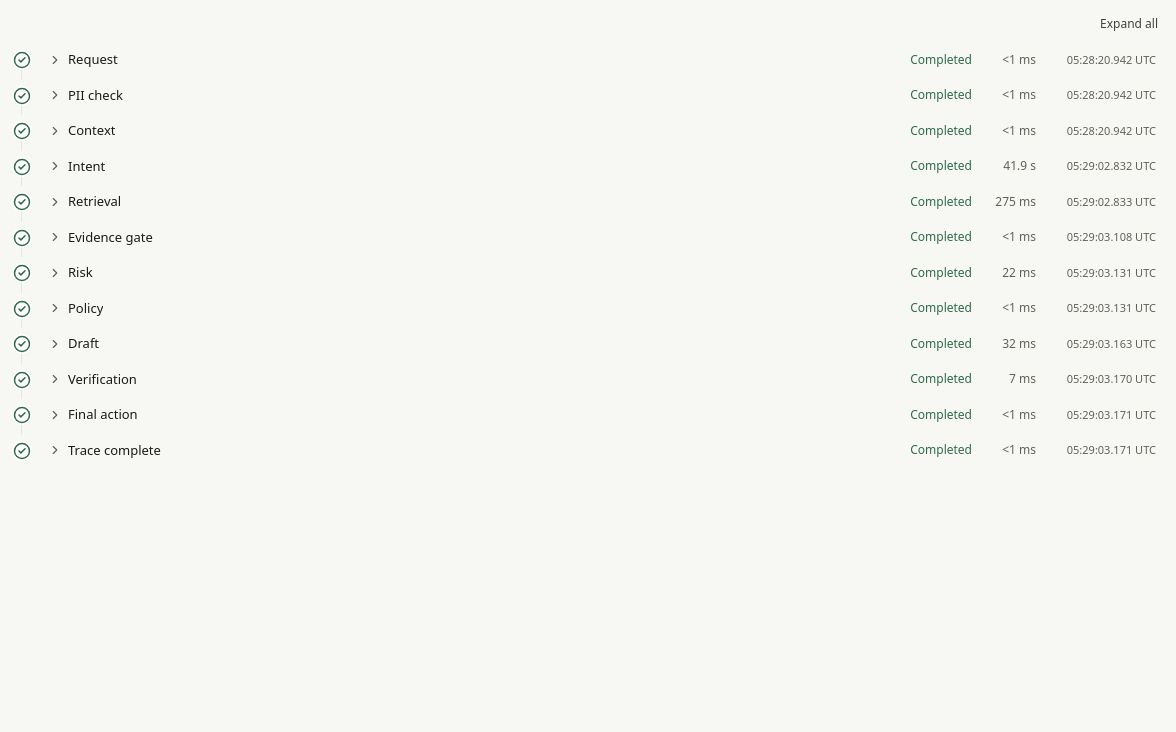
Test: trace timeline › shows status, duration and time per stage and reveals safe metadata on click
The width and height of the screenshot is (1176, 732).
Click the button "Policy Completed <1 ms 05:29:03.131 UTC" at {"x": 86, "y": 308}, box [40,292,1164,324]
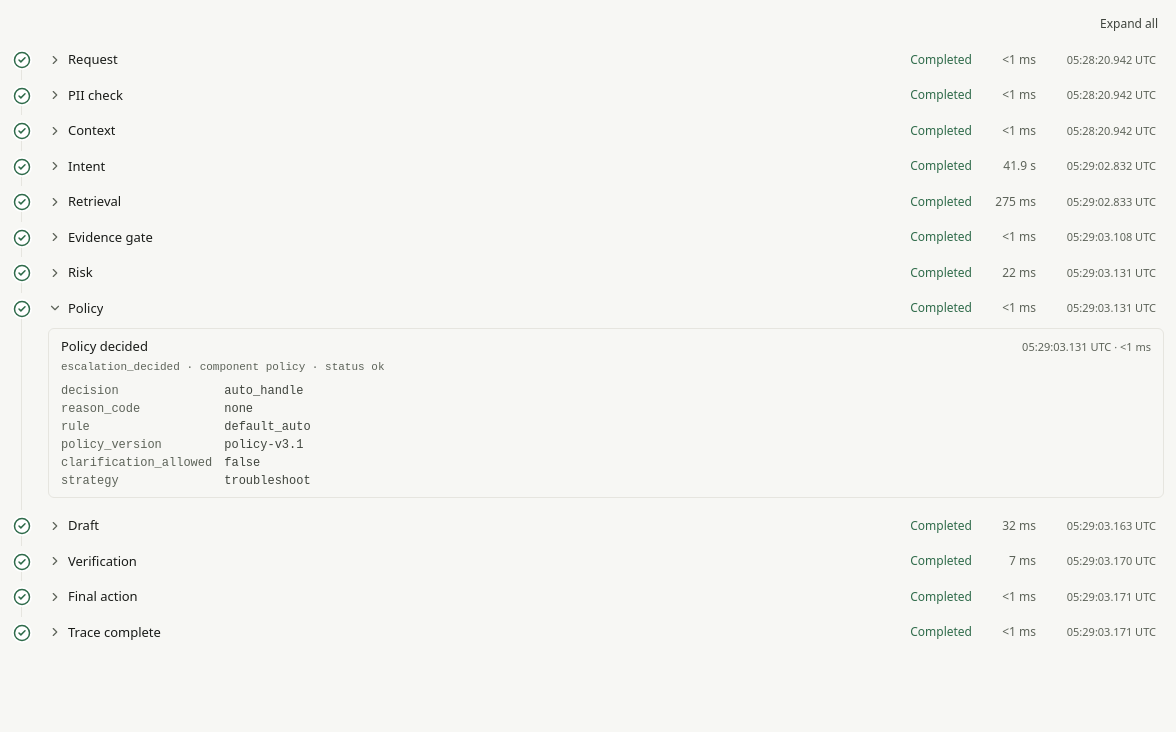
expect the button "Policy Completed <1 ms 05:29:03.131 UTC" is expanded: met, box [40,292,1164,324]
expect the text "Policy decided" is shown: met, box [61,337,148,356]
expect the text "default_auto" is shown: met, box [224,420,311,434]
